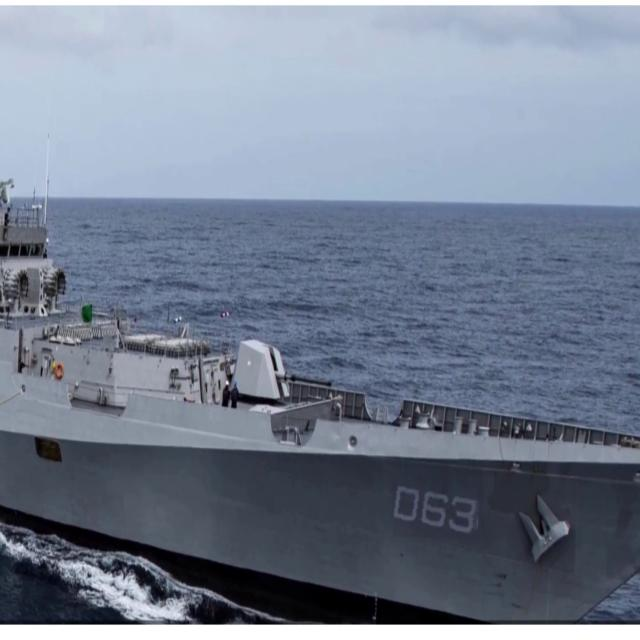OCR: (393, 478, 482, 538)
